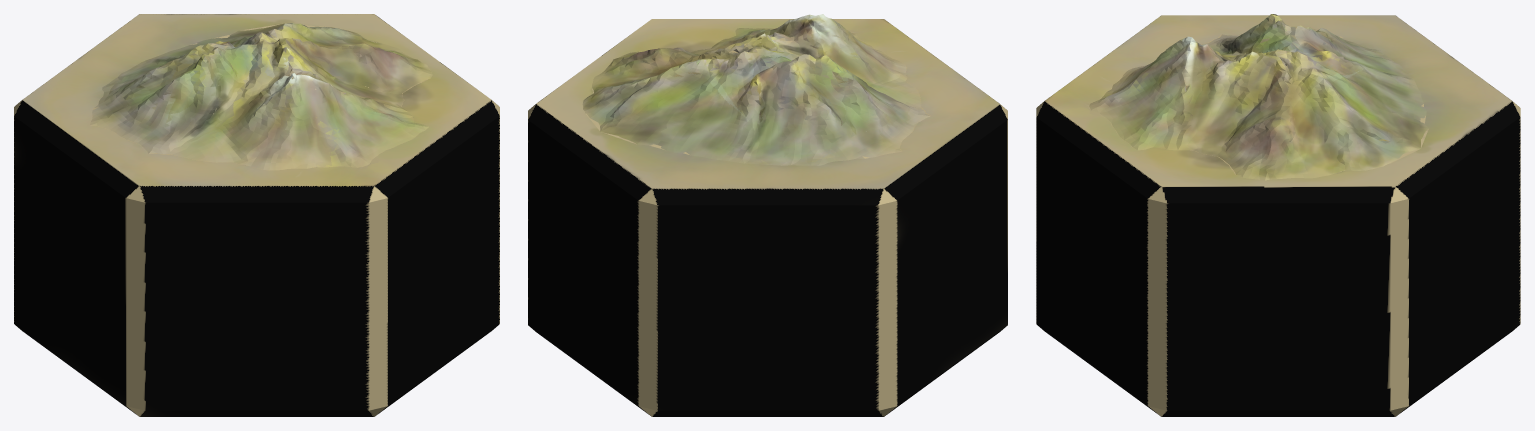
File: 01.White (large).fbx
3 views of the same model, side by side, from view 1: azimuth 30°, elevation 25°; view 2: azimuth 150°, elevation 25°; view 3: azimuth 270°, elevation 25° (orthographic).
Visible parts, largest first — view 1: 01.White; view 2: 01.White; view 3: 01.White.
Part boxes in pixels (<box>): 01.White: <box>14,14,499,416</box>; 01.White: <box>528,14,1007,416</box>; 01.White: <box>1036,14,1520,416</box>.
Bounding box in the file's own units: 447 × 334 × 504.
Materials: 1 (1 with a texture image).
